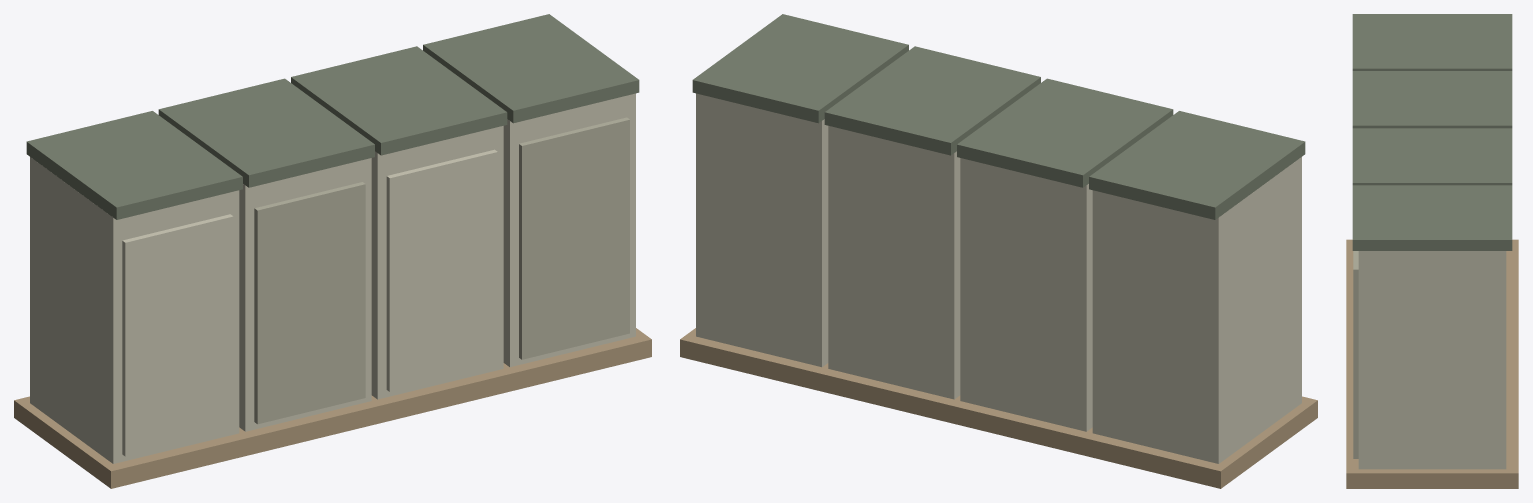
The model's file is armoured-column-and-field-camp-latrine-block-611d34f4__23691.glb.
3 renders of one model, left to right at view 1: azimuth 30°, elevation 25°; view 2: azimuth 150°, elevation 25°; view 3: azimuth 270°, elevation 25°, orthographic. The views are drawn at different scales.
Visible parts, largest first — view 1: latrine-block; view 2: latrine-block; view 3: latrine-block.
Part boxes in pixels (<box>): latrine-block: <box>14,14,651,488</box>; latrine-block: <box>680,14,1317,488</box>; latrine-block: <box>1346,14,1518,488</box>.
Size of the model in its own units: 4.5 by 2.2 by 1.4.
